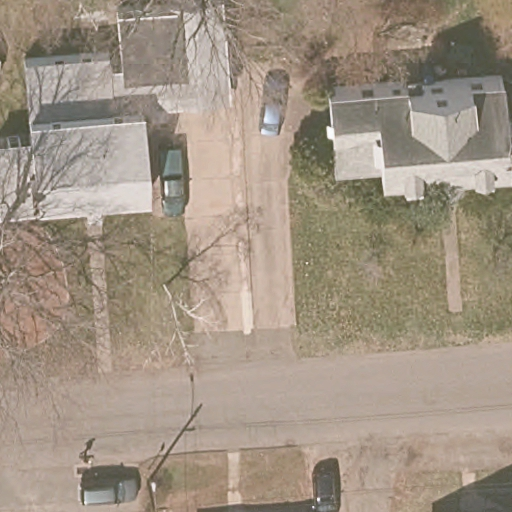DT: (144, 480, 167, 512)
